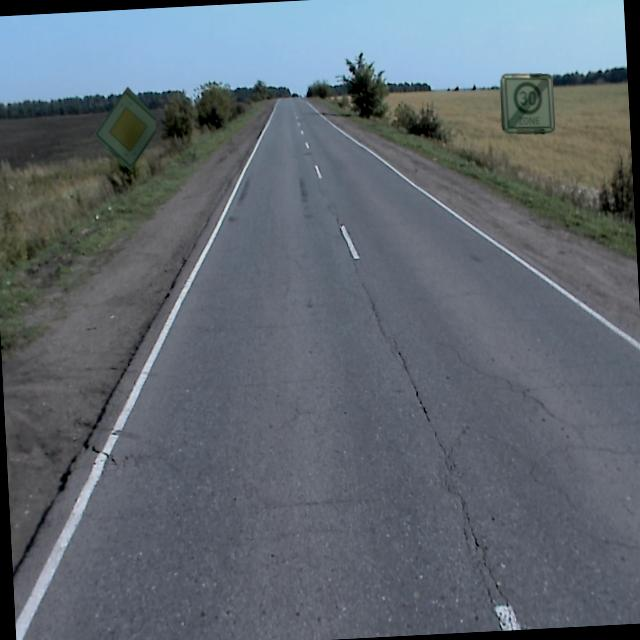road: (13, 99, 640, 640)
